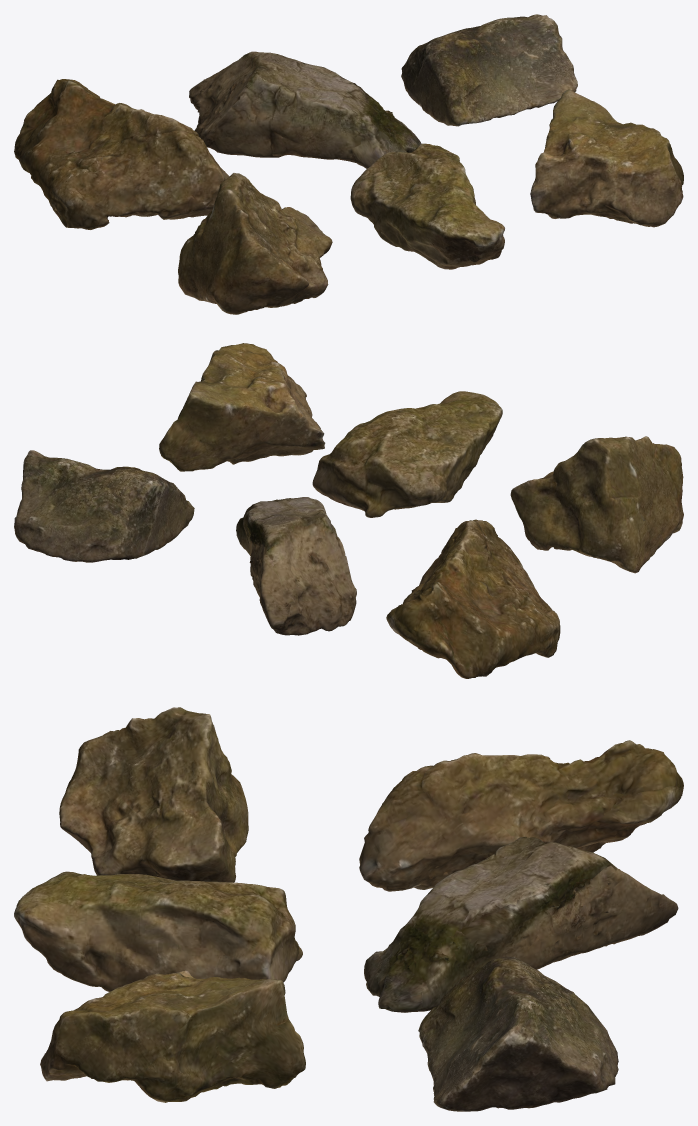
File: rock_moss_set_01.gltf
3 views of the same model, one above another, from view 1: azimuth 30°, elevation 25°; view 2: azimuth 150°, elevation 25°; view 3: azimuth 270°, elevation 25° (orthographic). The views are drawn at different scales.
Visible parts, largest first — view 1: rock_moss_set_01_rock01, rock_moss_set_01_rock02, rock_moss_set_01_rock06, rock_moss_set_01_rock04, rock_moss_set_01_rock03, rock_moss_set_01_rock05; view 2: rock_moss_set_01_rock04, rock_moss_set_01_rock01, rock_moss_set_01_rock05, rock_moss_set_01_rock03, rock_moss_set_01_rock06, rock_moss_set_01_rock02; view 3: rock_moss_set_01_rock01, rock_moss_set_01_rock02, rock_moss_set_01_rock05, rock_moss_set_01_rock06, rock_moss_set_01_rock04, rock_moss_set_01_rock03.
Boxes of the visible parts, x1,y1,x2,y2 form: rock_moss_set_01_rock01: [14, 79, 229, 229]; rock_moss_set_01_rock02: [189, 51, 421, 168]; rock_moss_set_01_rock06: [530, 89, 683, 227]; rock_moss_set_01_rock04: [178, 173, 332, 314]; rock_moss_set_01_rock03: [401, 14, 577, 126]; rock_moss_set_01_rock05: [350, 143, 504, 269]; rock_moss_set_01_rock04: [510, 436, 683, 573]; rock_moss_set_01_rock01: [386, 519, 560, 678]; rock_moss_set_01_rock05: [312, 391, 502, 517]; rock_moss_set_01_rock03: [14, 450, 194, 562]; rock_moss_set_01_rock06: [159, 343, 325, 471]; rock_moss_set_01_rock02: [236, 497, 356, 635]; rock_moss_set_01_rock01: [359, 740, 683, 891]; rock_moss_set_01_rock02: [364, 836, 678, 1012]; rock_moss_set_01_rock05: [14, 871, 302, 991]; rock_moss_set_01_rock06: [40, 970, 305, 1102]; rock_moss_set_01_rock04: [59, 707, 248, 882]; rock_moss_set_01_rock03: [418, 956, 618, 1111].
Size of the model in its own units: 8 by 1.77 by 6.95.
1 material, 1 textured.
